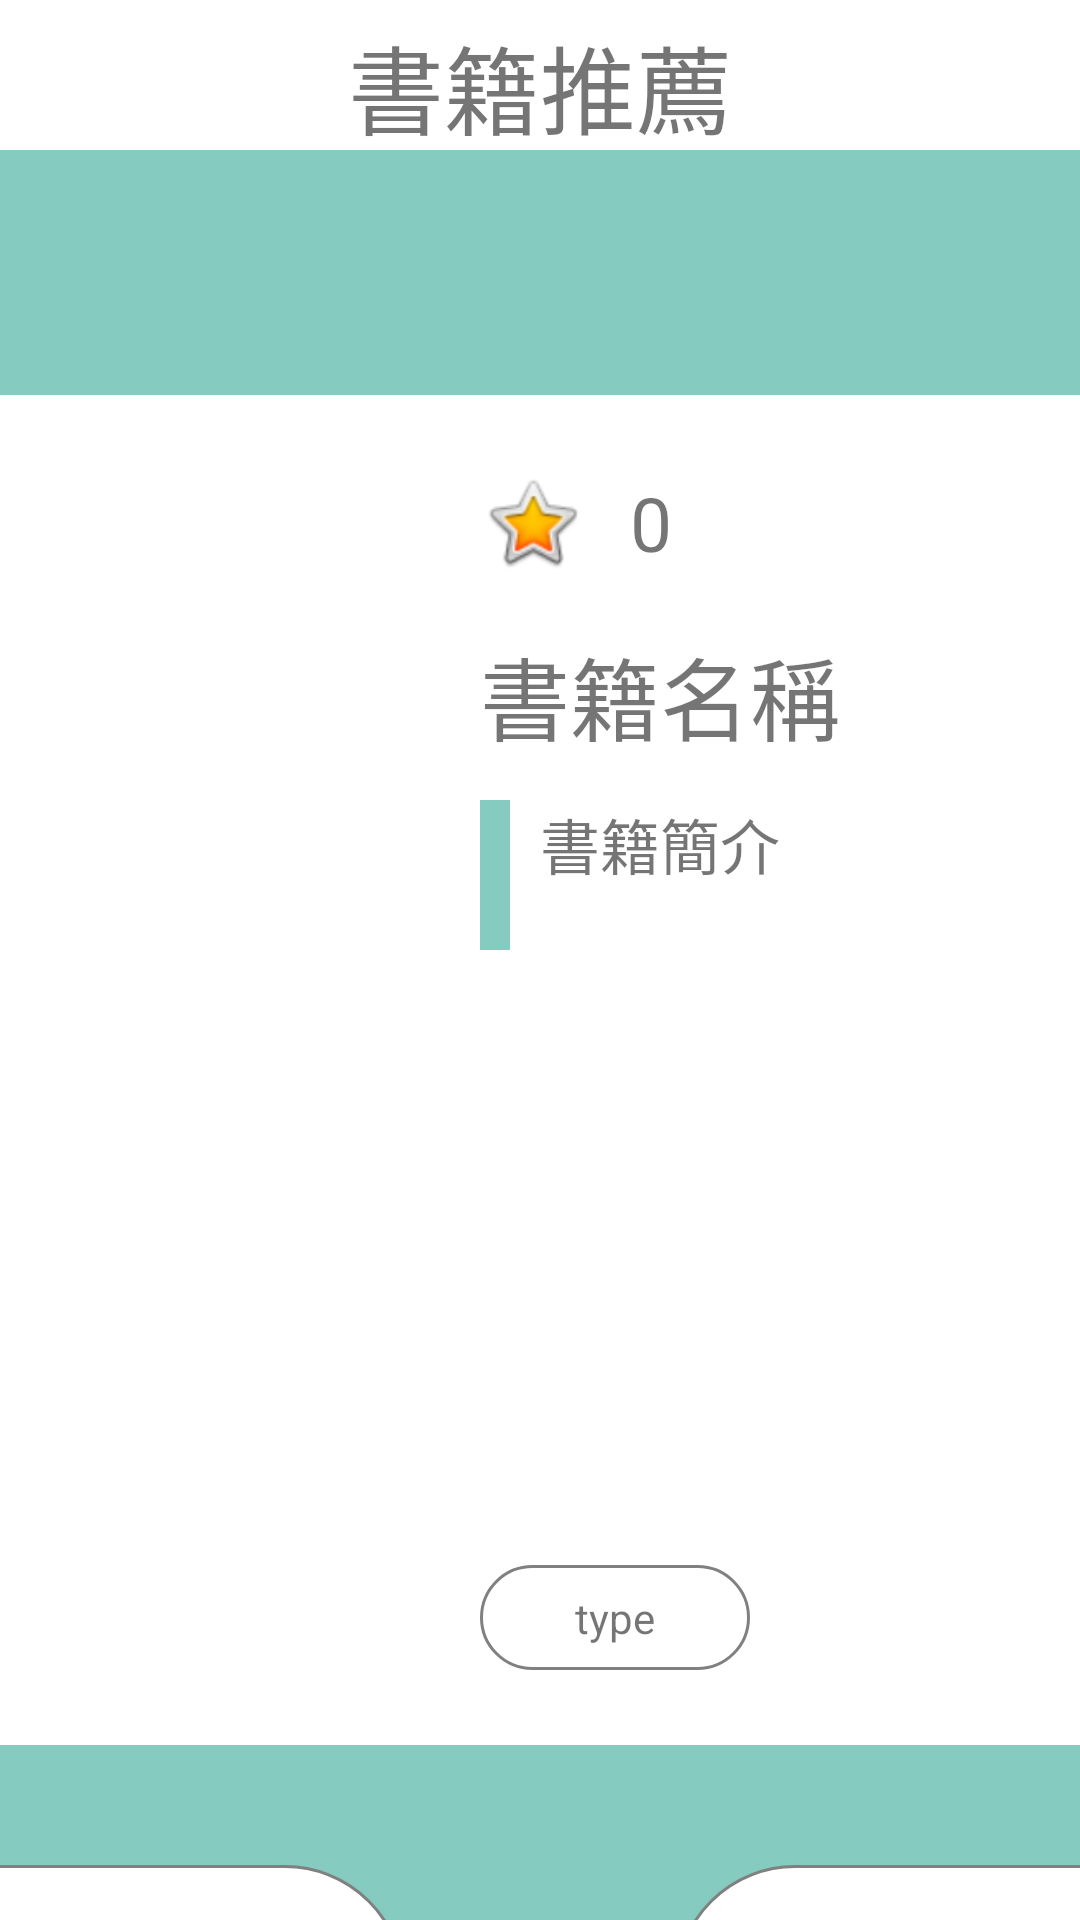

Named icons in this screenshot (1080*1920) and their centers, (x=x, y=y):
star on: (x=533, y=523)
